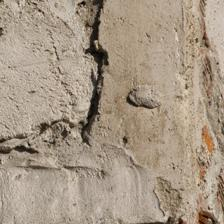Crack: (58, 0, 135, 113), (0, 60, 107, 103)
